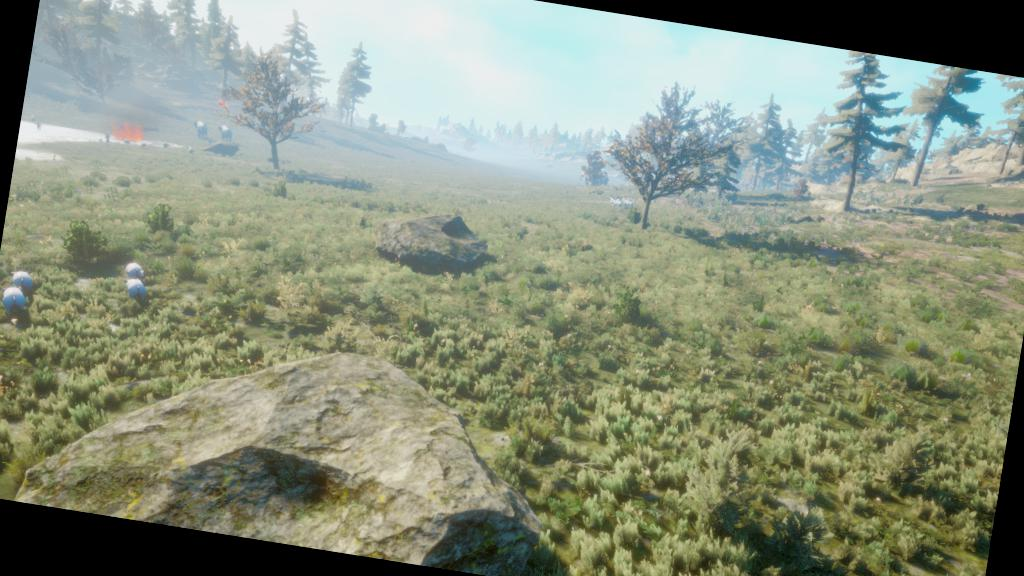Fire: (104, 116, 154, 152)
elephant: (185, 114, 216, 146), (210, 118, 240, 145)
pig: (1, 264, 48, 304), (0, 281, 38, 322), (118, 274, 154, 306), (118, 258, 153, 288)
smoke: (113, 91, 168, 130)
zebra: (605, 193, 624, 209), (620, 195, 636, 212)
